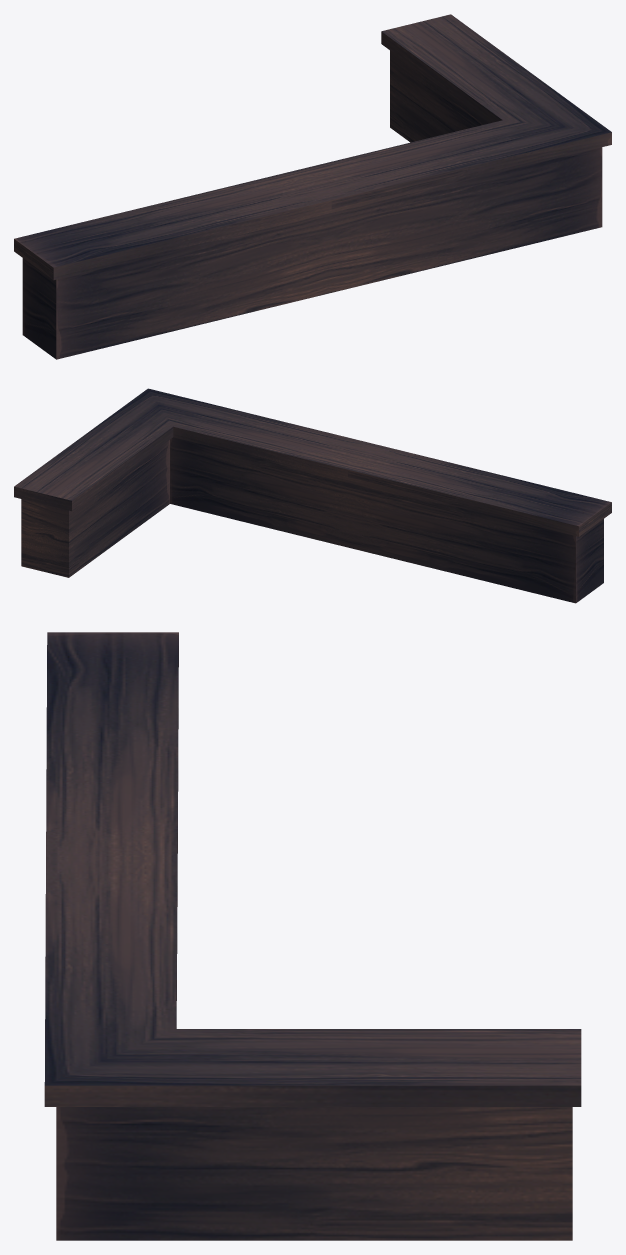
The model's file is Counter_D.fbx.
The picture shows the model from 3 angles, top to bottom: view 1: azimuth 30°, elevation 25°; view 2: azimuth 150°, elevation 25°; view 3: azimuth 270°, elevation 25°; orthographic projection. The views are drawn at different scales.
Parts seen in each view (by area): view 1: Counter_D; view 2: Counter_D; view 3: Counter_D.
Part boxes in pixels (<box>): Counter_D: <box>14,14,611,359</box>; Counter_D: <box>14,388,611,603</box>; Counter_D: <box>44,632,581,1240</box>.
Bounding box in the file's own units: 1.25 × 0.2062 × 0.6266.
